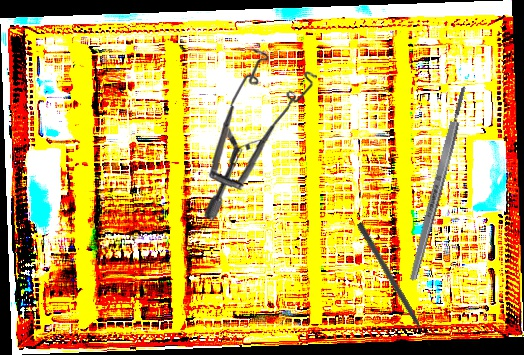Pusher: (355, 221, 433, 349)
Scalpel Handle: (406, 84, 471, 283)
Speculum: (201, 47, 320, 221)
